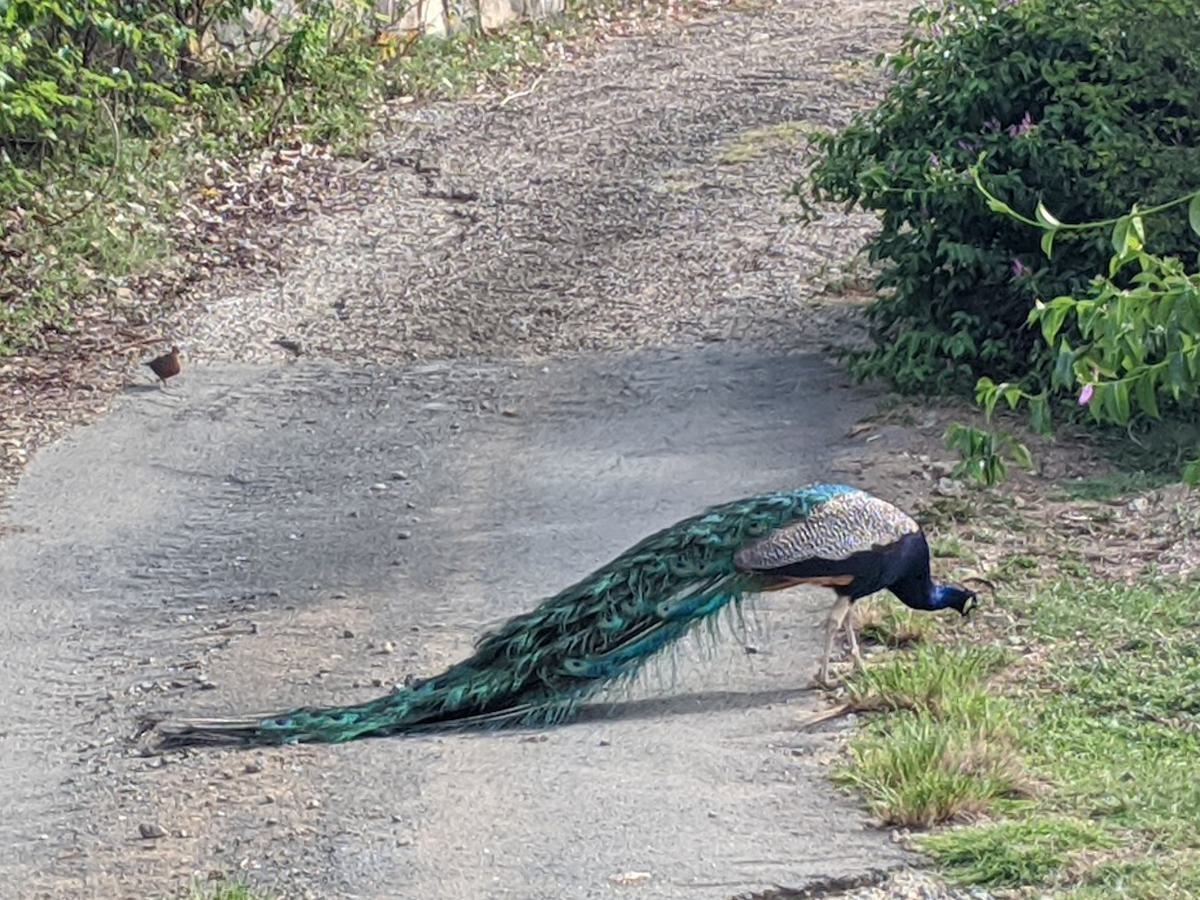peacock: (156, 454, 1009, 748)
